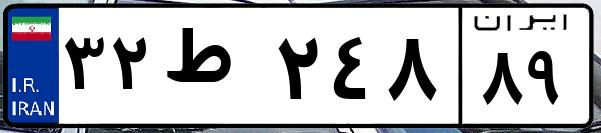2: (270, 28, 330, 110), (110, 28, 158, 98)
3: (57, 26, 110, 100)
4: (330, 28, 385, 110)
8: (385, 28, 445, 110), (475, 38, 525, 113)
9: (525, 38, 570, 115)
ط: (158, 20, 270, 120)
